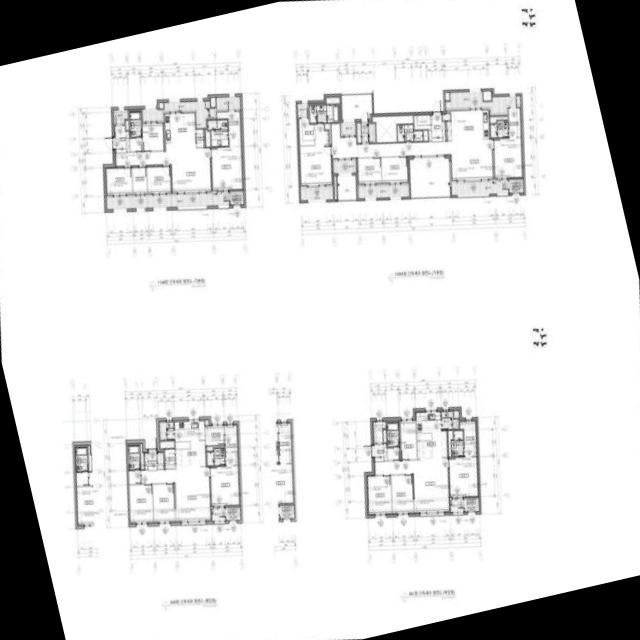background: (0, 0, 640, 640)
space_balconi: (106, 192, 229, 209), (141, 101, 215, 129), (445, 91, 520, 113), (409, 158, 450, 197), (451, 180, 508, 195), (341, 95, 372, 119), (358, 185, 409, 198), (337, 175, 356, 199), (300, 187, 333, 200), (356, 122, 375, 142), (216, 96, 240, 110), (441, 411, 458, 429), (159, 422, 174, 440), (334, 160, 354, 173), (113, 109, 128, 124), (450, 499, 463, 512), (212, 508, 225, 521), (341, 122, 355, 134), (297, 103, 307, 117)
space_bedroom: (300, 124, 331, 185), (210, 452, 239, 505), (211, 147, 243, 190), (493, 138, 522, 177), (449, 457, 477, 496), (129, 484, 153, 522), (367, 476, 391, 513), (391, 475, 413, 513), (153, 484, 174, 522), (105, 168, 132, 194), (381, 157, 407, 182), (147, 166, 170, 193), (358, 158, 381, 183), (142, 123, 163, 150)
space_dressroom: (215, 111, 241, 147), (299, 118, 314, 145), (508, 108, 520, 138), (224, 425, 237, 451), (460, 421, 475, 442)
space_front: (428, 115, 445, 142), (114, 125, 129, 153), (374, 443, 387, 461), (144, 453, 157, 470)
space_kitchen: (416, 412, 447, 459), (174, 420, 205, 467), (446, 109, 489, 140), (164, 113, 196, 150)
space_living_room: (331, 123, 493, 180), (115, 148, 211, 192), (375, 458, 449, 512), (141, 467, 210, 521)
space_other: (372, 115, 413, 142), (400, 420, 416, 459), (132, 167, 147, 193), (205, 426, 224, 445), (373, 422, 386, 443), (414, 115, 430, 129), (165, 449, 175, 468), (128, 470, 141, 484), (130, 138, 142, 151), (464, 443, 476, 456), (387, 448, 399, 460), (324, 124, 331, 144), (196, 129, 203, 147), (490, 116, 507, 123), (448, 430, 452, 456), (140, 444, 144, 469), (160, 441, 174, 448), (157, 452, 163, 468), (206, 446, 224, 451), (205, 129, 210, 146), (326, 97, 339, 103), (483, 91, 491, 100), (334, 176, 337, 200), (442, 113, 450, 120), (423, 130, 428, 140), (210, 97, 215, 107), (383, 430, 386, 442), (125, 120, 128, 130), (453, 411, 458, 417), (445, 93, 449, 100), (159, 102, 163, 108), (205, 420, 208, 425)
space_outdoor_room: (508, 179, 523, 193), (229, 191, 243, 205), (464, 498, 479, 511), (226, 507, 240, 520)
space_toilet: (207, 120, 228, 146), (309, 105, 338, 123), (397, 124, 423, 141), (129, 111, 141, 137), (451, 430, 463, 456), (490, 120, 508, 137), (207, 448, 225, 465), (387, 422, 399, 446), (128, 445, 140, 469)
